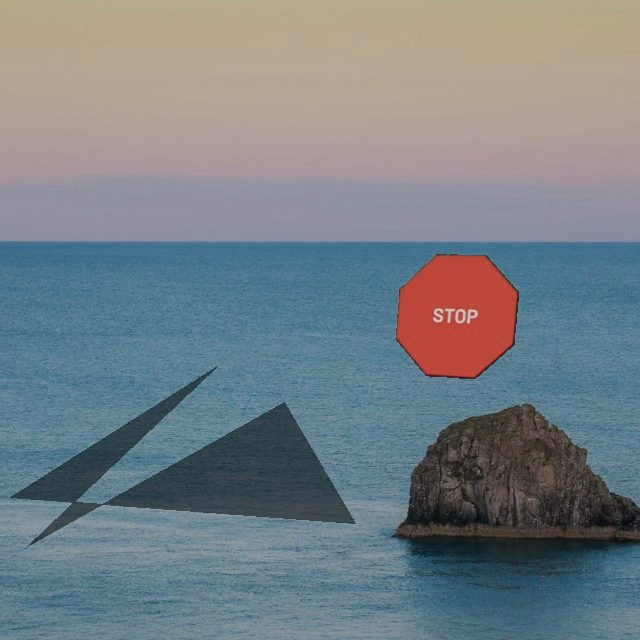STOP: (395, 254, 519, 379)
